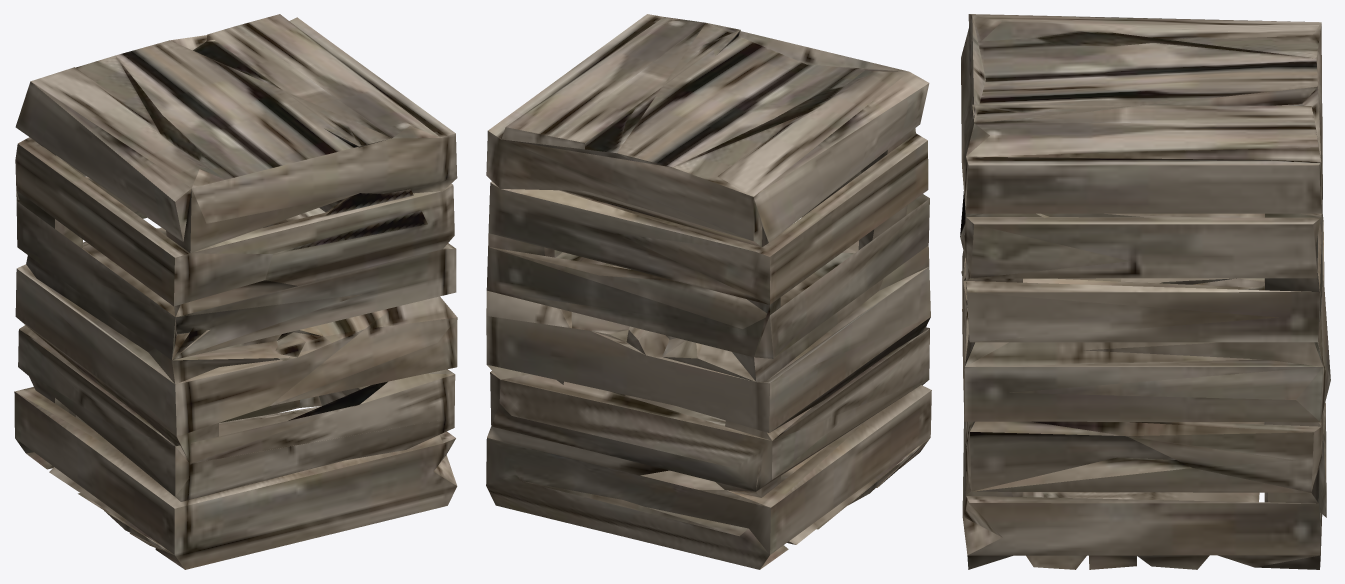
The model's file is prop_crate.glb.
The picture shows the model from 3 angles, left to right: view 1: azimuth 30°, elevation 25°; view 2: azimuth 150°, elevation 25°; view 3: azimuth 270°, elevation 25°; orthographic projection. The views are drawn at different scales.
Bounding box in the file's own units: 1.49 × 1.89 × 1.51.
Materials: 1 (1 with a texture image).
